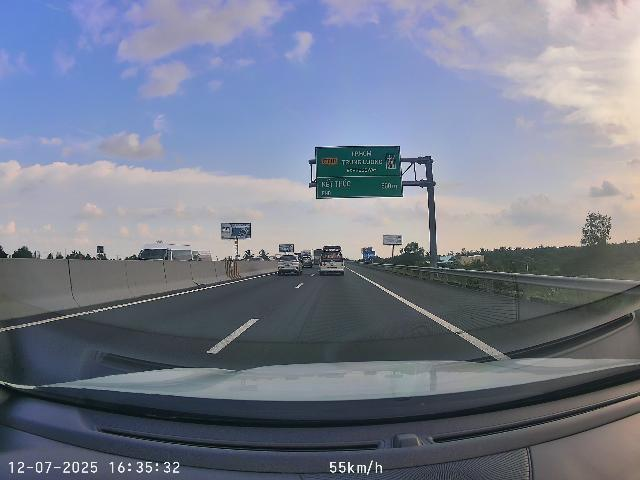438-ket-thuc-duong-cao-toc: (385, 153, 396, 170)
